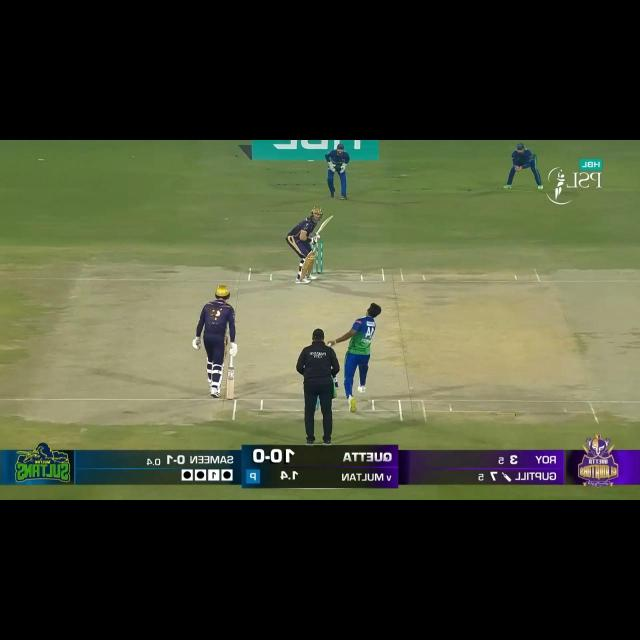bat: (317, 214, 334, 234), (226, 368, 235, 400)
toe: (326, 213, 335, 222), (225, 394, 234, 400)
